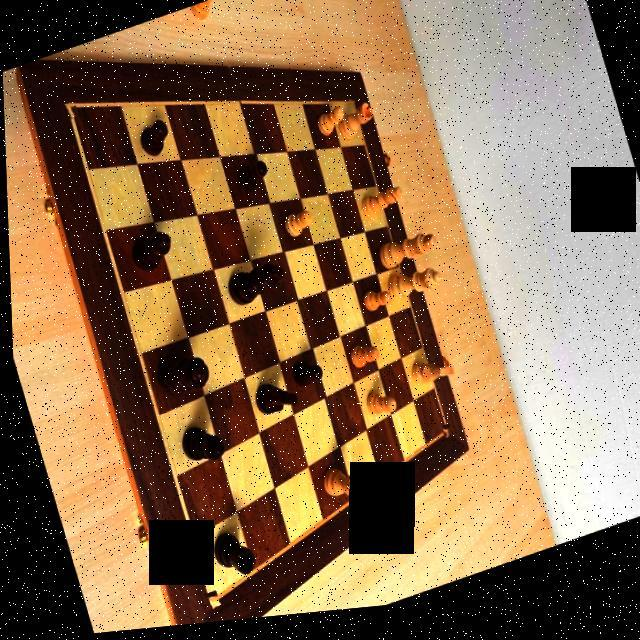chess-table-corners: (60, 95, 78, 120), (198, 592, 215, 612), (437, 430, 448, 446), (346, 102, 356, 114)
